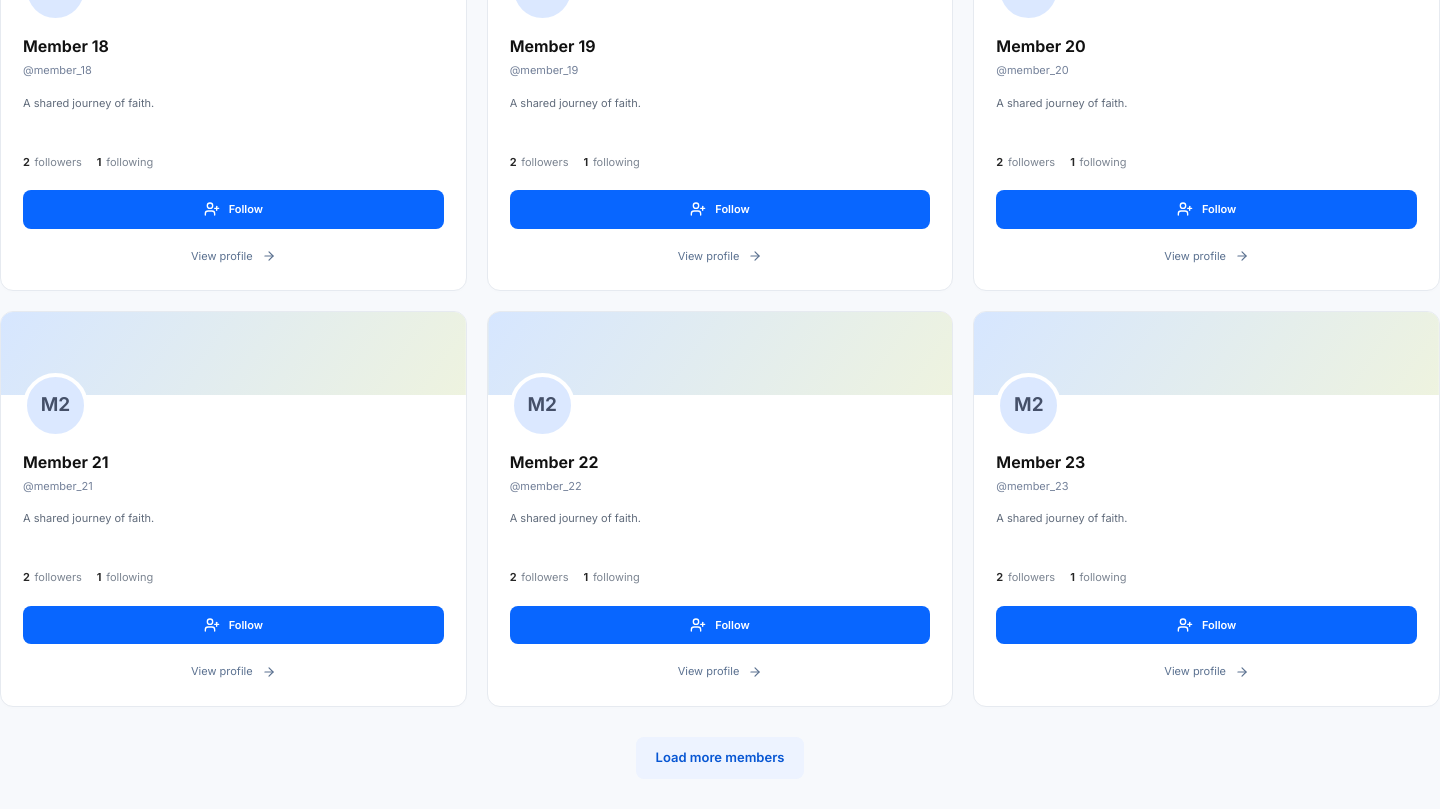
Test: real member directory UI using mocked data transport › loads additional pages using the existing row count as offset
This screenshot has width=1440, height=809.
(page scrolled)
Click the button "Load more members" at [720, 758], box [636, 737, 804, 779]
(page scrolled)
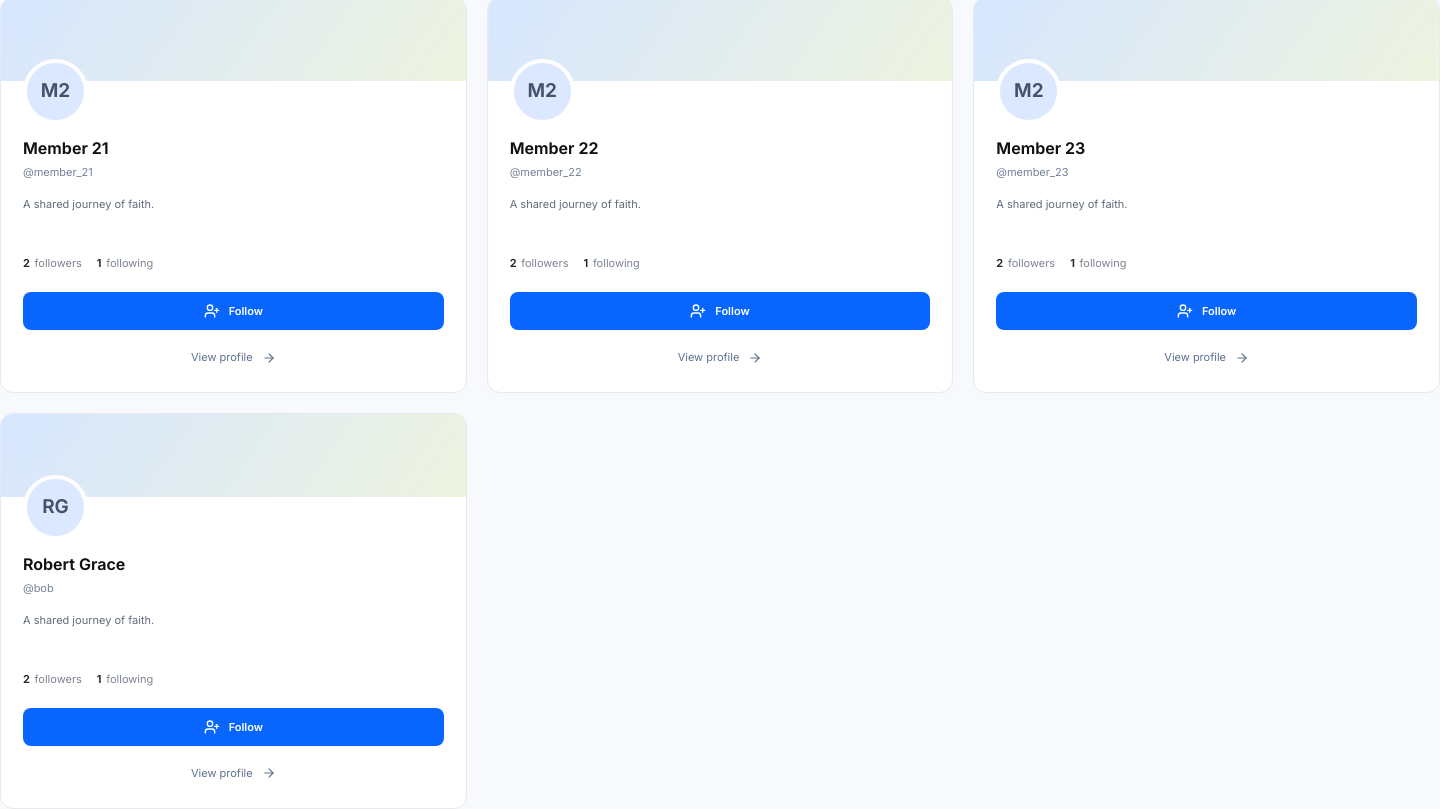
Expected: the text "@bob" is shown, [23, 580, 54, 594]
Expected: the button "Load more members" is gone
